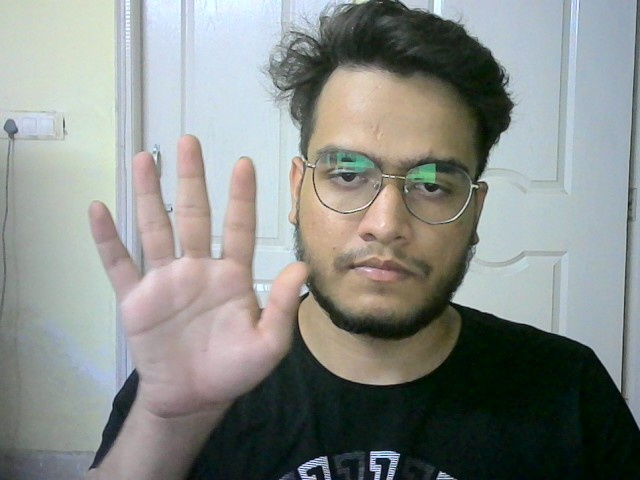Hello: (80, 134, 304, 405)
